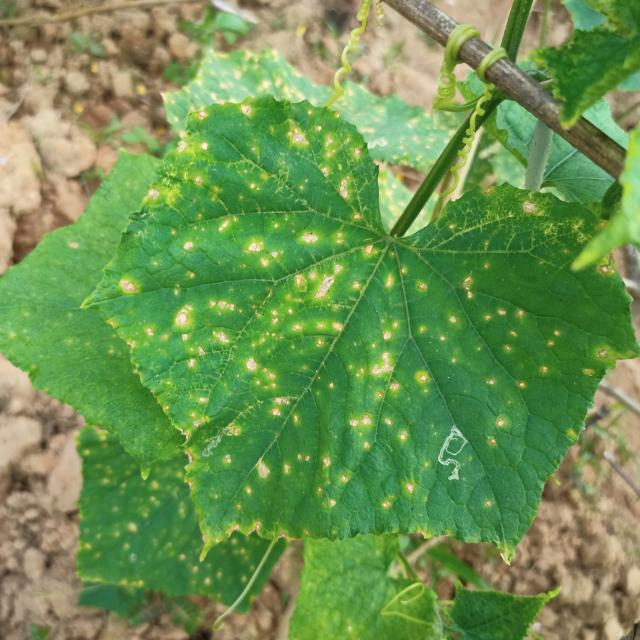disease_cucumber: (135, 105, 575, 550)
